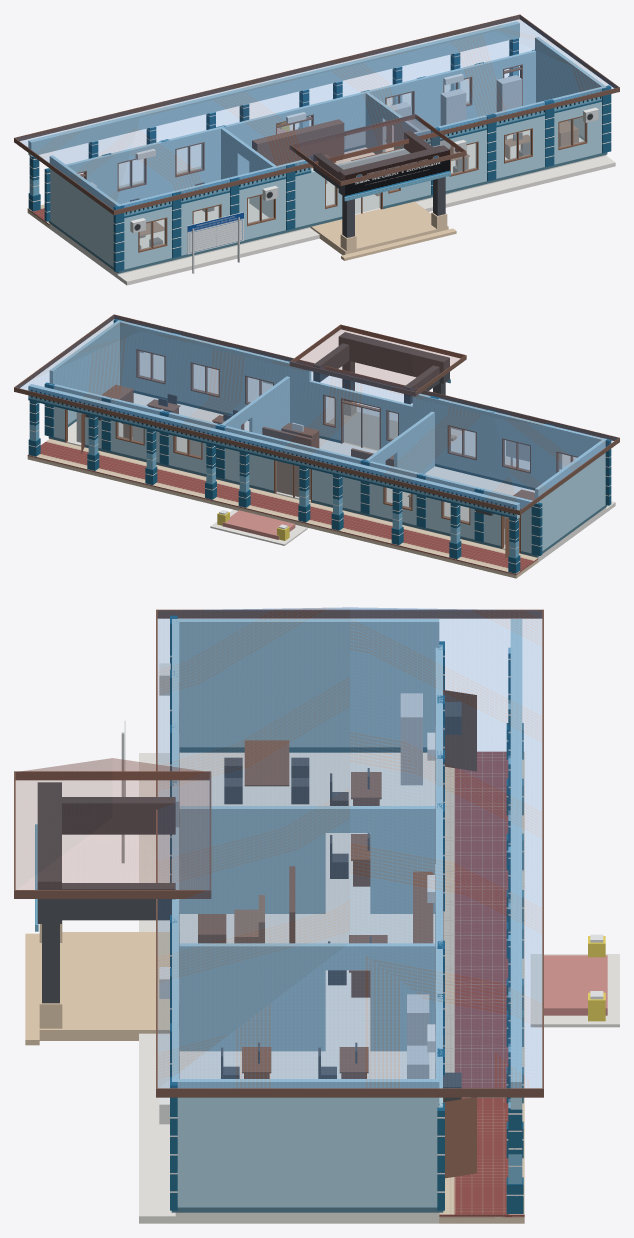
File: gedung_utama_kepsek_tu_cutaway.glb
The picture shows the model from 3 angles, top to bottom: view 1: azimuth 30°, elevation 25°; view 2: azimuth 150°, elevation 25°; view 3: azimuth 270°, elevation 25°; orthographic projection. The views are drawn at different scales.
Parts seen in each view (by area): view 1: Atap_Utama_Biru, Dinding_Biru_Muda, Atap_Lisplang_Coklat, Lantai_Interior_Dan_Selasar, Kusen_Pintu_Meja_Kantor, Atap_Portiko_Lobi_Coklat, Kaca_Jendela_Transparan, Pilaster_Dan_Kolom_Biru_Teal, Umpak_Marmer_Lobi, Lis_Ventilasi_Persegi, Pilar_Granit_Hitam_Lobi, Interior_Lemari_Arsip_Baja (+7 smaller); view 2: Atap_Utama_Biru, Dinding_Biru_Muda, Lantai_Koridor_Terracotta, Atap_Lisplang_Coklat, Kaca_Jendela_Transparan, Kusen_Pintu_Meja_Kantor, Atap_Portiko_Lobi_Coklat, Pilaster_Dan_Kolom_Biru_Teal, Lis_Ventilasi_Persegi, Lantai_Interior_Dan_Selasar, Pilar_Granit_Hitam_Lobi, Kolom_Koridor_Belakang (+5 smaller); view 3: Atap_Utama_Biru, Dinding_Biru_Muda, Lantai_Interior_Dan_Selasar, Lantai_Koridor_Terracotta, Atap_Portiko_Lobi_Coklat, Kusen_Pintu_Meja_Kantor, Umpak_Marmer_Lobi, Atap_Lisplang_Coklat, Pilar_Granit_Hitam_Lobi, Pilaster_Dan_Kolom_Biru_Teal, Interior_Lemari_Arsip_Baja, Interior_Monitor_Dan_Kursi (+6 smaller).
Part boxes in pixels (left/top/right/bottom): Atap_Utama_Biru: left=16, top=15, right=616, bottom=209; Dinding_Biru_Muda: left=28, top=21, right=606, bottom=269; Atap_Lisplang_Coklat: left=14, top=14, right=619, bottom=215; Lantai_Interior_Dan_Selasar: left=49, top=129, right=615, bottom=285; Kusen_Pintu_Meja_Kantor: left=77, top=64, right=587, bottom=252; Atap_Portiko_Lobi_Coklat: left=292, top=115, right=463, bottom=180; Kaca_Jendela_Transparan: left=119, top=78, right=585, bottom=250; Pilaster_Dan_Kolom_Biru_Teal: left=28, top=49, right=611, bottom=272; Umpak_Marmer_Lobi: left=310, top=201, right=456, bottom=260; Lis_Ventilasi_Persegi: left=124, top=88, right=601, bottom=218; Pilar_Granit_Hitam_Lobi: left=313, top=130, right=449, bottom=237; Interior_Lemari_Arsip_Baja: left=90, top=75, right=522, bottom=273; Atap_Utama_Biru: left=17, top=315, right=617, bottom=509; Dinding_Biru_Muda: left=29, top=320, right=606, bottom=553; Lantai_Koridor_Terracotta: left=27, top=439, right=538, bottom=578; Atap_Lisplang_Coklat: left=14, top=314, right=619, bottom=515; Kaca_Jendela_Transparan: left=117, top=351, right=576, bottom=522; Kusen_Pintu_Meja_Kantor: left=65, top=349, right=578, bottom=557; Atap_Portiko_Lobi_Coklat: left=292, top=325, right=463, bottom=391; Pilaster_Dan_Kolom_Biru_Teal: left=28, top=319, right=611, bottom=573; Lis_Ventilasi_Persegi: left=28, top=379, right=516, bottom=519; Lantai_Interior_Dan_Selasar: left=51, top=393, right=615, bottom=562; Pilar_Granit_Hitam_Lobi: left=313, top=332, right=449, bottom=404; Kolom_Koridor_Belakang: left=29, top=400, right=518, bottom=557; Atap_Utama_Biru: left=158, top=607, right=541, bottom=1087; Dinding_Biru_Muda: left=172, top=619, right=522, bottom=1207; Lantai_Interior_Dan_Selasar: left=139, top=752, right=619, bottom=1223; Lantai_Koridor_Terracotta: left=439, top=751, right=524, bottom=1223; Atap_Portiko_Lobi_Coklat: left=16, top=758, right=208, bottom=889; Kusen_Pintu_Meja_Kantor: left=171, top=678, right=476, bottom=1178; Umpak_Marmer_Lobi: left=25, top=920, right=169, bottom=1045; Atap_Lisplang_Coklat: left=14, top=609, right=543, bottom=1097; Pilar_Granit_Hitam_Lobi: left=37, top=782, right=175, bottom=1003; Pilaster_Dan_Kolom_Biru_Teal: left=170, top=615, right=523, bottom=1213; Interior_Lemari_Arsip_Baja: left=121, top=693, right=429, bottom=1078; Interior_Monitor_Dan_Kursi: left=221, top=757, right=371, bottom=1078.
Bounding box in the file's own units: 27.96 × 5.9 × 14.93.
24 materials, 9 textured.
